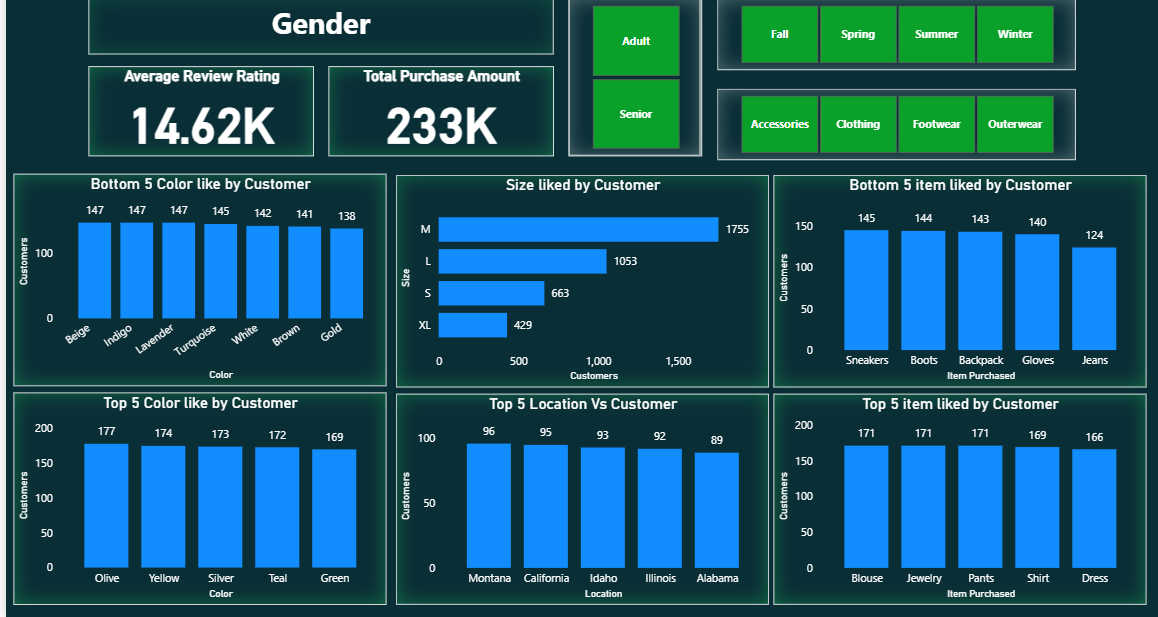

The page's visual inventory and layout, read from the dashboard file:
{"tool":"powerbi","page":{"name":"Gender","canvas":[1280,720],"ordinal":1},"visuals":[{"type":"columnChart","title":"Top 5 Color like by Customer","fields":{"Category":["shopping_trends_updated.Color"],"Y":["CountNonNull(shopping_trends_updated.Customer ID)"]},"box":[9,470,414.3,235.7],"z":0},{"type":"columnChart","title":"Bottom 5 Color like by Customer","fields":{"Category":["shopping_trends_updated.Color"],"Y":["CountNonNull(shopping_trends_updated.Customer ID)"]},"box":[8.6,226.1,414.4,235.9],"z":1000},{"type":"columnChart","title":"Top 5 Location Vs Customer","fields":{"Category":["shopping_trends_updated.Location"],"Y":["CountNonNull(shopping_trends_updated.Customer ID)"]},"box":[432.7,470.6,414.4,234.7],"z":2000},{"type":"barChart","title":"Size liked by Customer","fields":{"Category":["shopping_trends_updated.Size"],"Y":["CountNonNull(shopping_trends_updated.Customer ID)"]},"box":[432.7,227.4,414.4,235.9],"z":3000},{"type":"columnChart","title":"Top 5 item liked by Customer","fields":{"Category":["shopping_trends_updated.Item Purchased"],"Y":["CountNonNull(shopping_trends_updated.Customer ID)"]},"box":[853.2,470.6,414.4,234.7],"z":4000},{"type":"columnChart","title":"Bottom 5 item liked by Customer","fields":{"Category":["shopping_trends_updated.Item Purchased"],"Y":["CountNonNull(shopping_trends_updated.Customer ID)"]},"box":[852.9,227.1,414.3,235.7],"z":5000},{"type":"card","title":"Average Review Rating","fields":{"Values":["Sum(shopping_trends_updated.Review Rating)"]},"box":[91.7,106.3,250.6,100.2],"z":6000},{"type":"card","title":"Total Purchase Amount","fields":{"Values":["Sum(shopping_trends_updated.Purchase Amount (USD))"]},"box":[358.2,106.3,250.6,100.2],"z":7000},{"type":"slicer","fields":{"Values":["shopping_trends_updated.Age Group"]},"box":[624.7,31.8,147.9,174.8],"z":8000},{"type":"slicer","fields":{"Values":["shopping_trends_updated.Category"]},"box":[790.9,132,398.5,79.5],"z":9000},{"type":"slicer","fields":{"Values":["shopping_trends_updated.Season"]},"box":[790.9,31.8,398.5,79.5],"z":10000},{"type":"textbox","box":[91,31,517,63],"z":11000}]}

Visuals, with their boxes on the page's 1280x720 design canvas (x1, y1, x2, y2). These are canvas units, not pixel positions in the 1158x617 screenshot, which may show the page scaled, cropped or inside an application window:
"Top 5 Color like by Customer" columnChart: 9:470:423:706
"Bottom 5 Color like by Customer" columnChart: 9:226:423:462
"Top 5 Location Vs Customer" columnChart: 433:471:847:705
"Size liked by Customer" barChart: 433:227:847:463
"Top 5 item liked by Customer" columnChart: 853:471:1268:705
"Bottom 5 item liked by Customer" columnChart: 853:227:1267:463
"Average Review Rating" card: 92:106:342:206
"Total Purchase Amount" card: 358:106:609:206
slicer - shopping_trends_updated.Age Group: 625:32:773:207
slicer - shopping_trends_updated.Category: 791:132:1189:212
slicer - shopping_trends_updated.Season: 791:32:1189:111
textbox: 91:31:608:94
